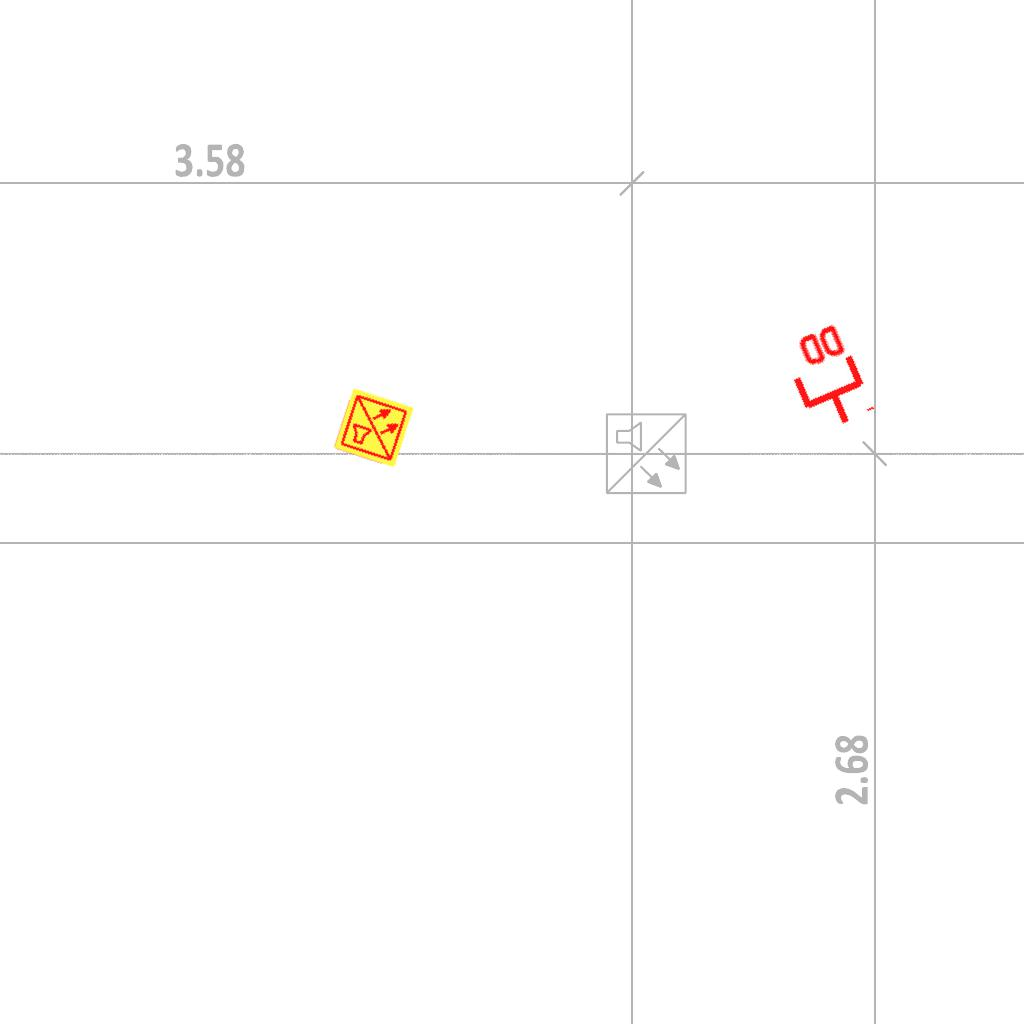Datenanschluss_zweifach: (773, 317, 878, 440)
OKW_Multisensormelder_(Kombination_optischer_Rauch-Kahlenmonoxid_Waerme-Melder): (332, 386, 416, 470)
